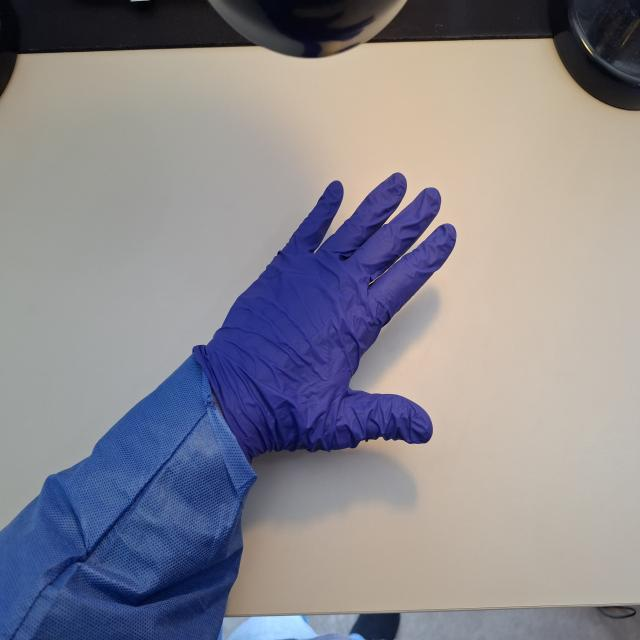glove_on: (188, 168, 459, 468)
